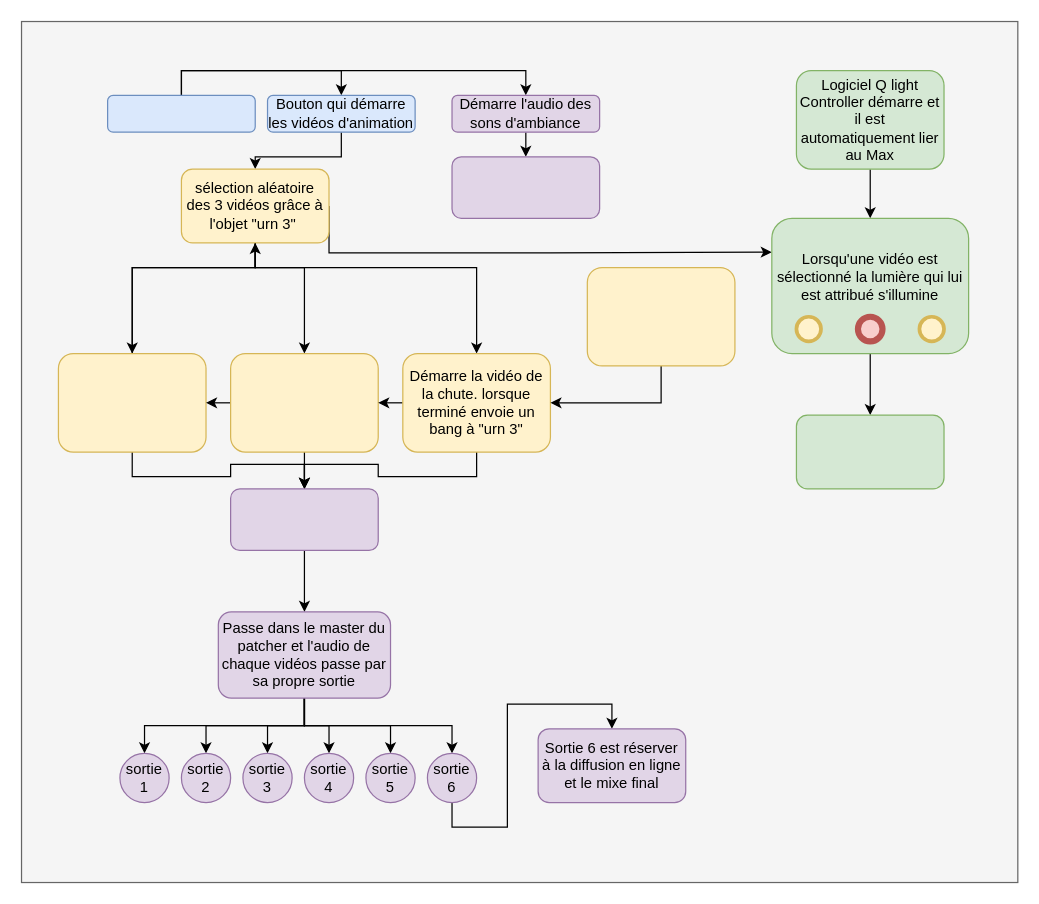
Some shapes in this 1039 by 904 pixel diagram are drawn without their labels. The shapes that lost their labels are listed below. From the top down, each one's centre as x and y in pixels, then its label:
point (180, 113): Bouton qui démarre l'audio du patcher
point (525, 187): Sélection aléatoire des sons grâce à "autopopulate"
point (660, 316): Mapping près définie des vidéos positionnent les animation dans la bonne boite
point (131, 402): Démarre la vidéo du monde Marin. lorsque terminé envoie un bang à "urn 3"
point (303, 402): Démarre la vidéo du monde imaginaire. lorsque terminé envoie un bang à "urn 3"
point (869, 451): Lorsque vidéo terminé, la lumière s'éteint
point (303, 519): L'audio des vidéos passe dans l'objet "gate 3"
